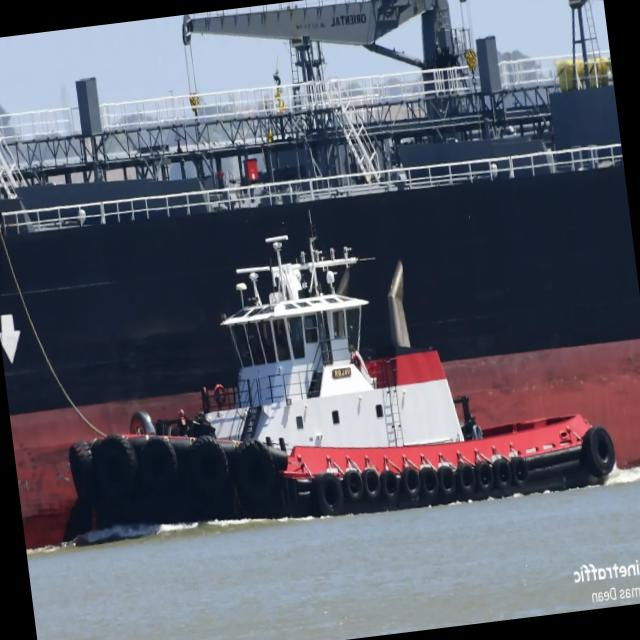Tug: (70, 235, 615, 527)
